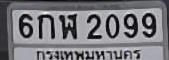0: (105, 13, 118, 38)
2: (86, 13, 100, 38)
6: (18, 13, 32, 37)
9: (141, 12, 155, 37), (123, 12, 137, 37)
A01: (37, 13, 54, 38)
A42: (59, 13, 76, 38)
BKK: (32, 48, 143, 60)
